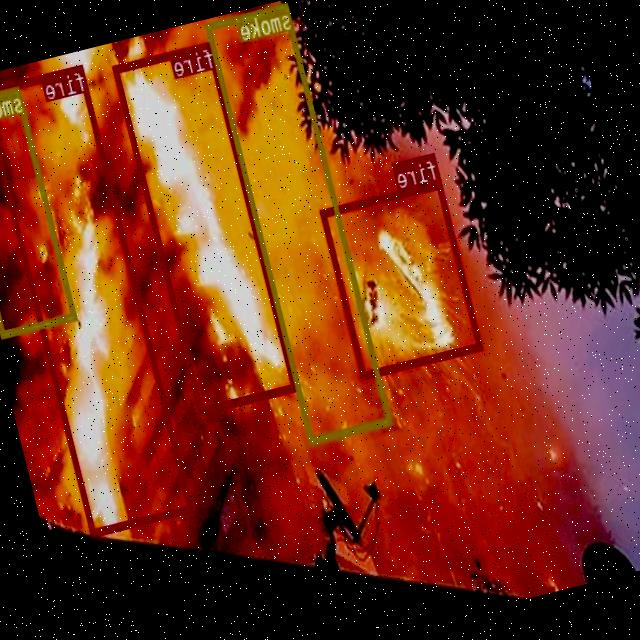fire: (0, 62, 194, 535), (113, 40, 298, 412), (320, 178, 483, 378)
smoke: (205, 0, 392, 442), (0, 83, 78, 336)
